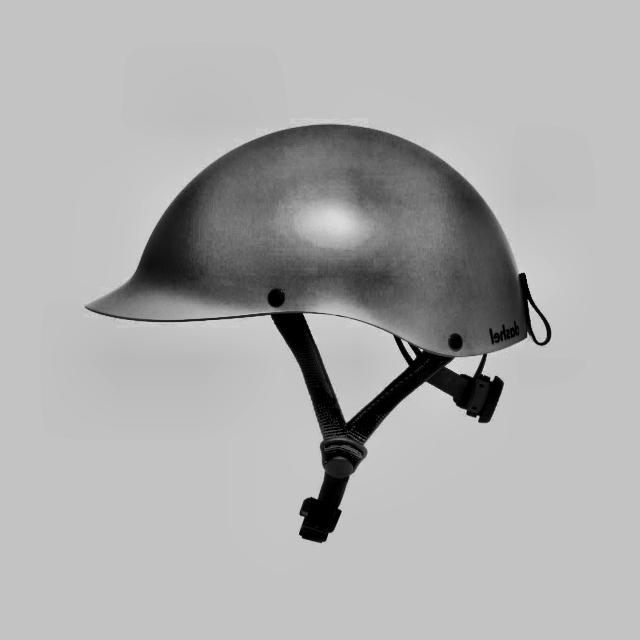Helmet: (75, 112, 562, 568)
